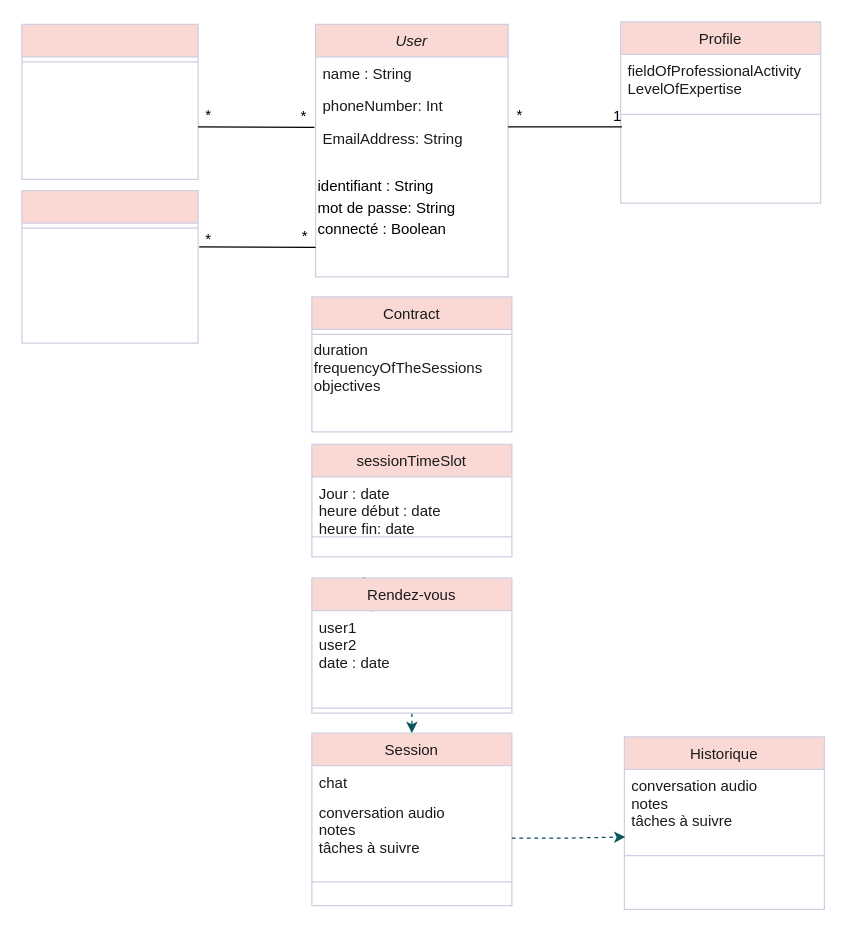
The diagram is 846 pixels wide and 931 high, and some of its shapes have lost their labels. The shapes that lost their labels are listed below. From the top down, each one's centre as x and y in pixels, then its label:
At [109,101]: "Mentee".
At [109,266]: "Mentor".
